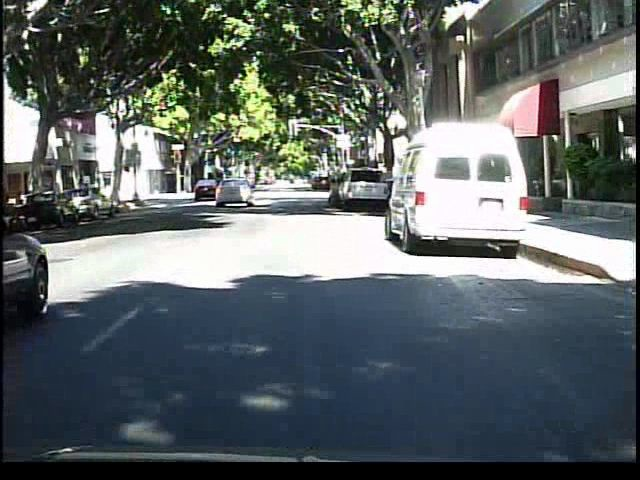person: (234, 172, 255, 207)
